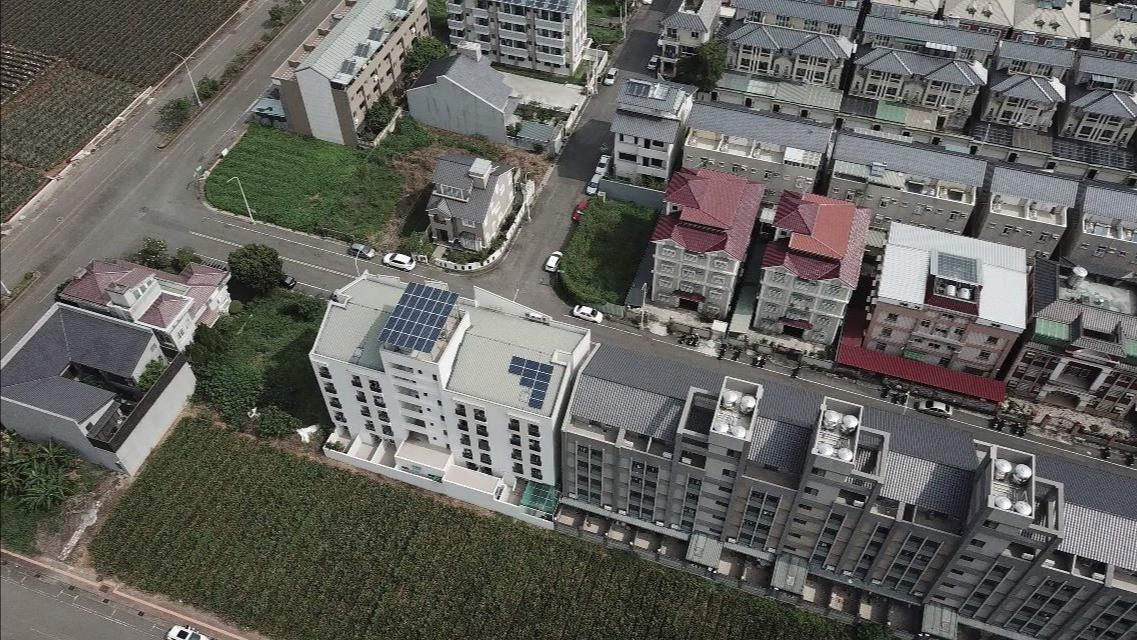vehicle: (916, 397, 952, 419), (163, 624, 212, 639), (571, 303, 604, 325), (382, 252, 416, 271), (349, 242, 376, 259), (544, 251, 562, 274), (573, 200, 589, 222), (585, 173, 601, 194), (276, 273, 297, 289), (595, 153, 611, 173), (604, 66, 618, 86)
